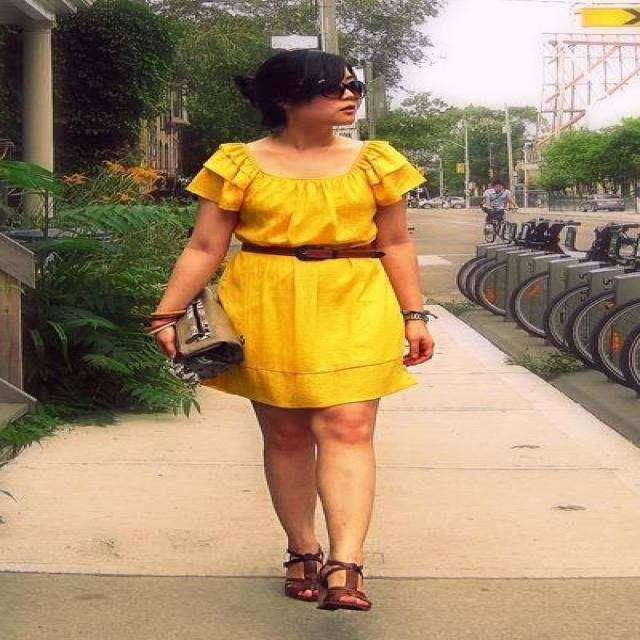bag: (149, 294, 243, 385)
dress: (186, 141, 426, 406)
shoe: (280, 535, 371, 610)
sunglass: (315, 70, 363, 100)
